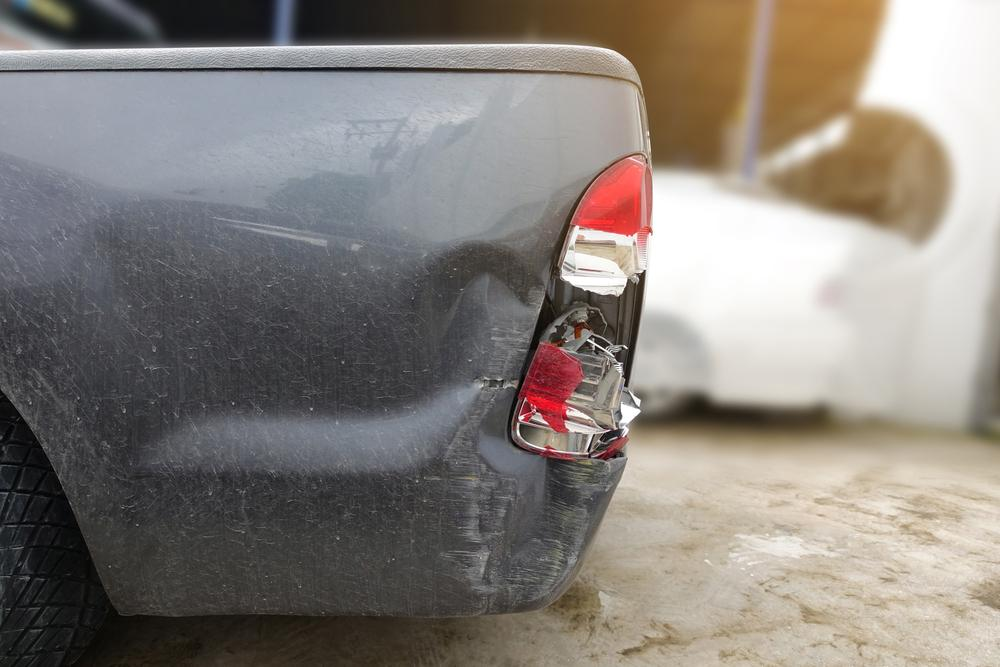dent: (86, 224, 544, 475)
lamp broken: (510, 153, 652, 463)
scratch: (442, 423, 616, 607)
